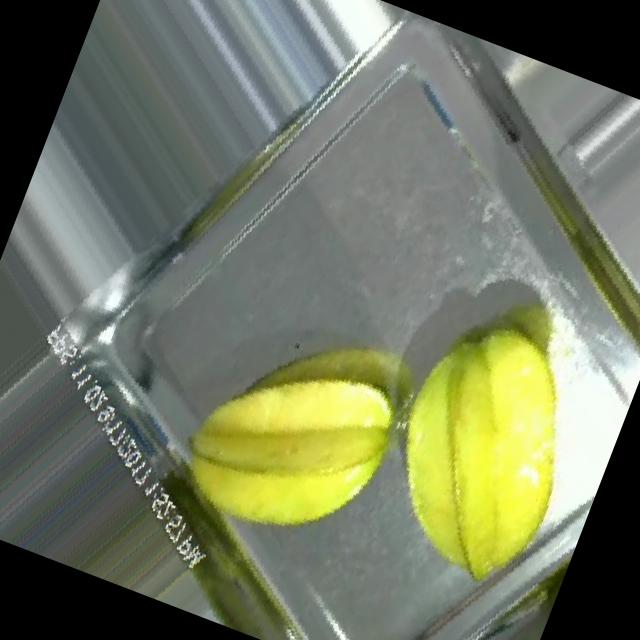fruit: (125, 260, 478, 632), (310, 250, 640, 636)
